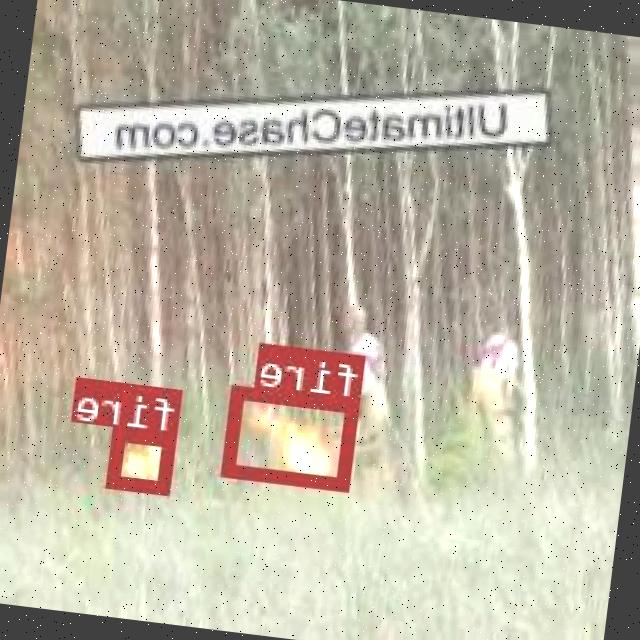fire: (224, 384, 360, 490), (109, 426, 178, 491)
